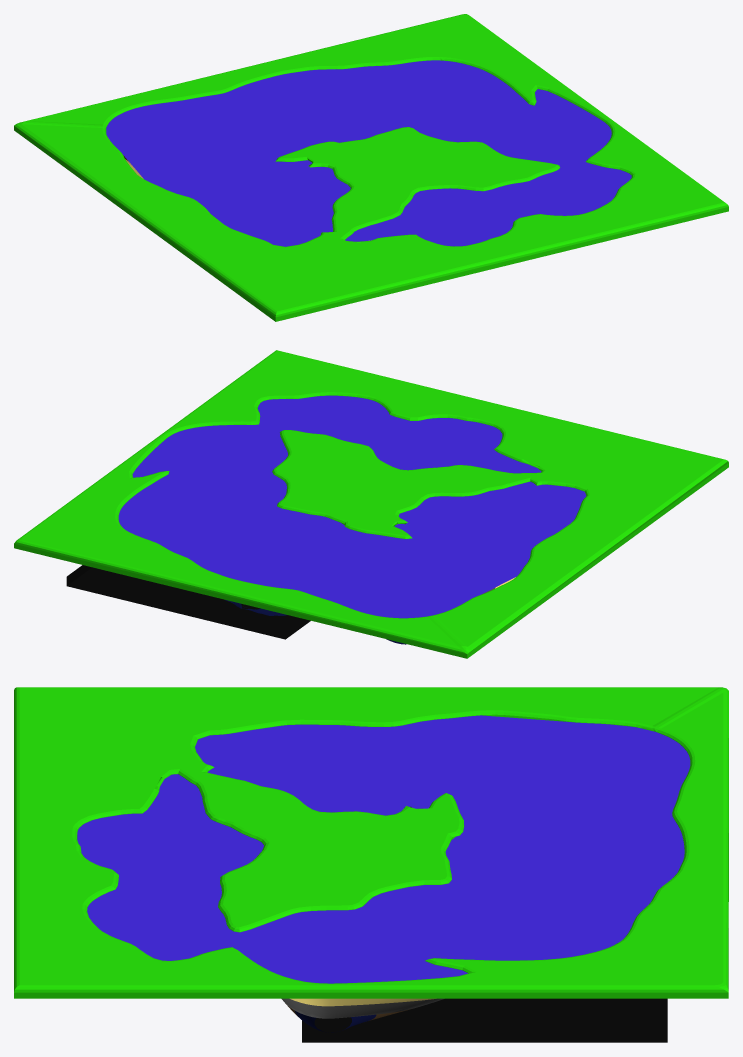
File: DANlAKE.glb
3 renders of one model, top to bottom at view 1: azimuth 30°, elevation 25°; view 2: azimuth 150°, elevation 25°; view 3: azimuth 270°, elevation 25°, orthographic. The views are drawn at different scales.
Visible parts, largest first — view 1: l1-FINALLY, water; view 2: l1-FINALLY, water, L6-bottom; view 3: l1-FINALLY, water, L6-bottom, L3-rocks, L2-sandy.
Part boxes in pixels (<box>): l1-FINALLY: <box>14,14,728,321</box>; water: <box>106,60,631,246</box>; l1-FINALLY: <box>14,350,728,658</box>; water: <box>118,395,586,618</box>; L6-bottom: <box>66,565,310,639</box>; l1-FINALLY: <box>14,687,728,998</box>; water: <box>77,715,690,983</box>; L6-bottom: <box>302,998,667,1042</box>; L3-rocks: <box>281,806,444,1018</box>; L2-sandy: <box>290,998,436,1006</box>.
Bounding box in the file's own units: 1503 × 176 × 1500.
